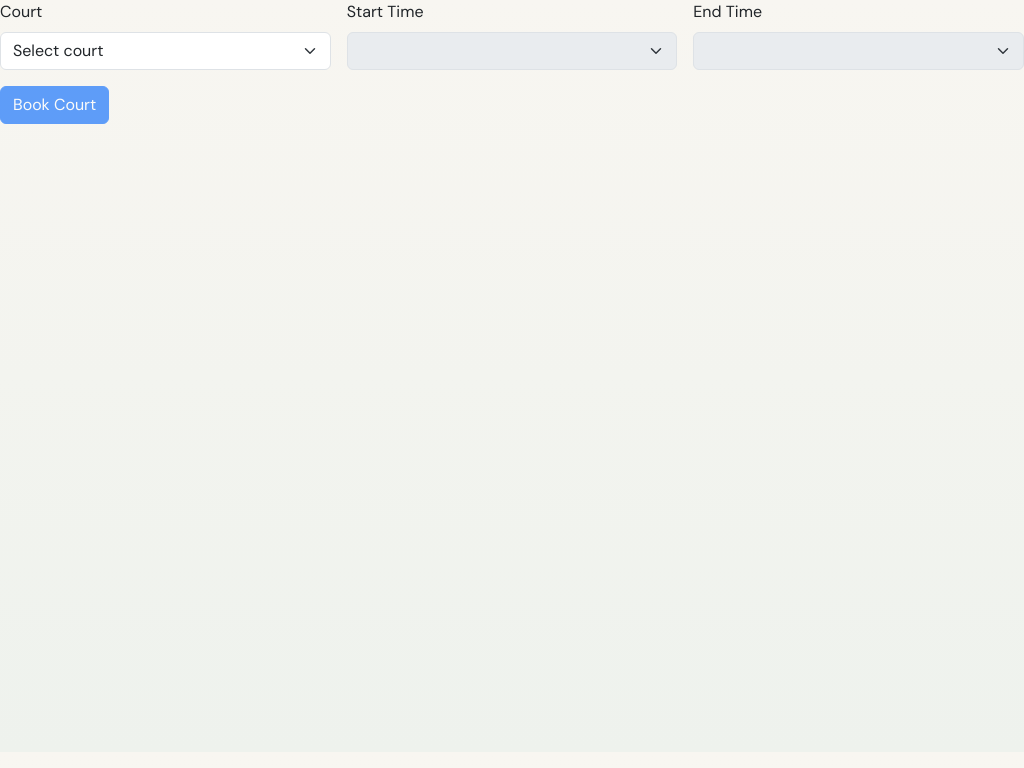
Test: ReservationForm › warns and disables inputs when the court is fully booked
The width and height of the screenshot is (1024, 768).
Select "Court 1" in the dropdown labelled "Court": (165, 51) [0, 32, 331, 70]
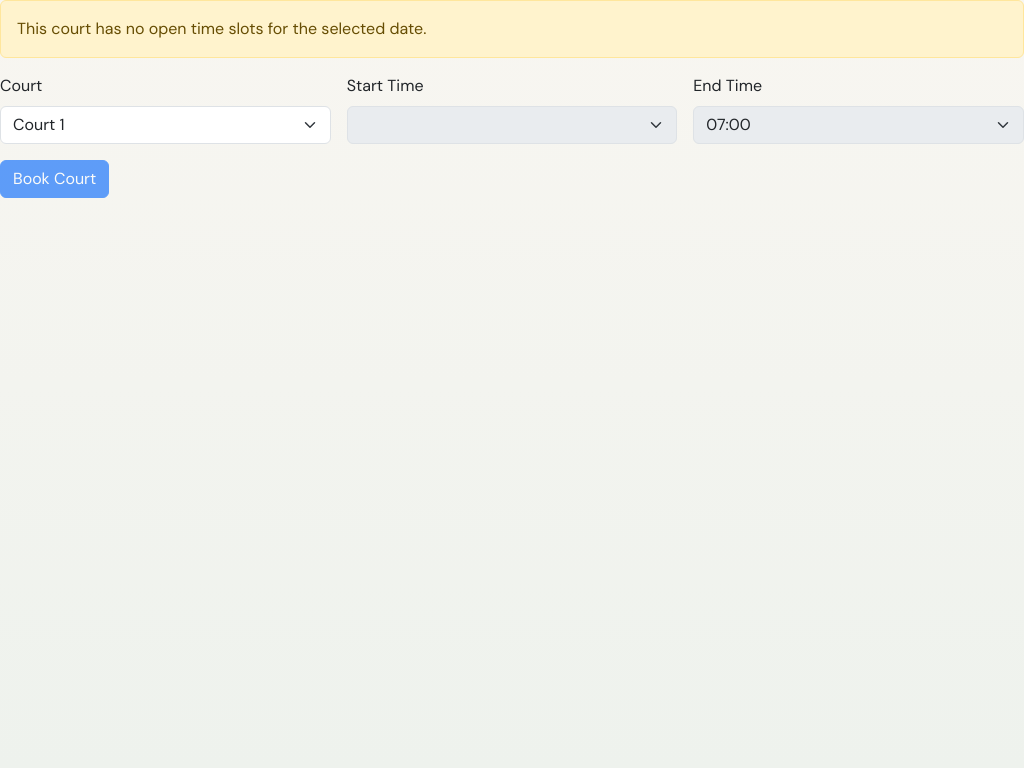
expect the button "Book Court" is disabled: met, box [0, 160, 109, 198]
expect the text "This court has no open time slots for the selected date." is shown: met, box [0, 0, 1023, 58]
